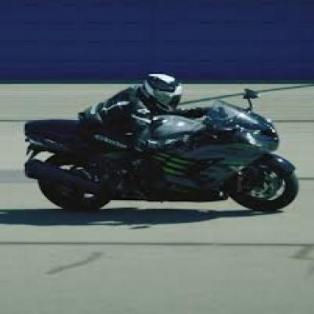Motocicleta: (22, 105, 302, 215)
